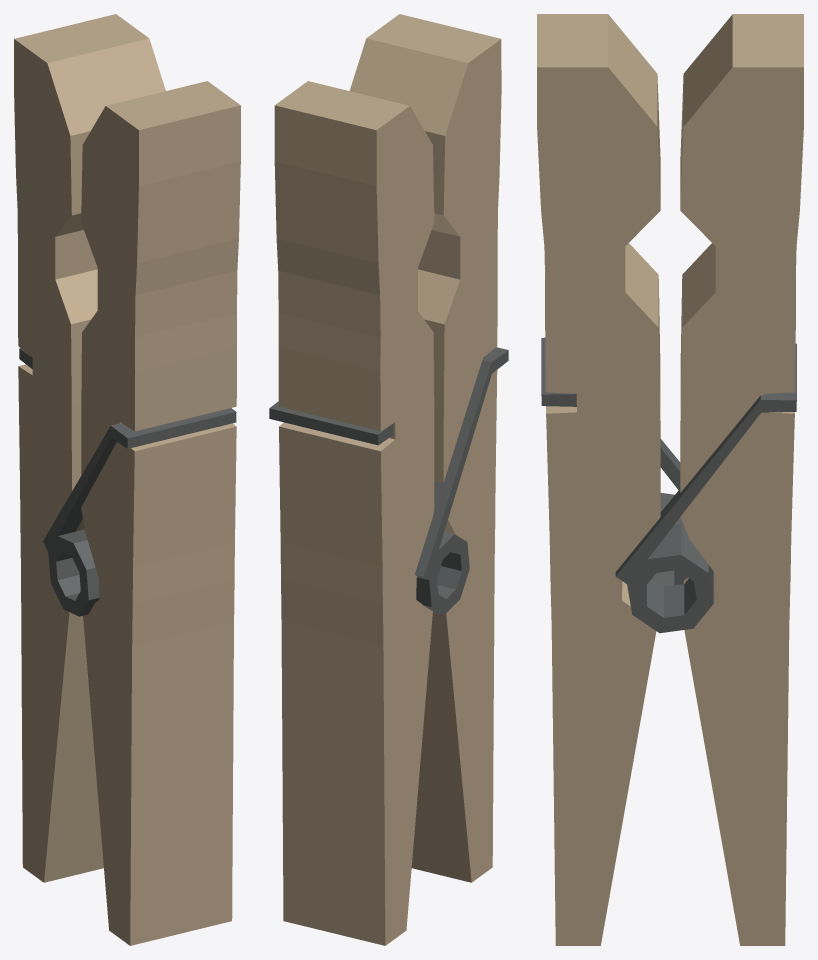
The model's file is prishepka.fbx.
3 renders of one model, left to right at view 1: azimuth 30°, elevation 25°; view 2: azimuth 150°, elevation 25°; view 3: azimuth 270°, elevation 25°, orthographic. The views are drawn at different scales.
Parts seen in each view (by area): view 1: Cube.002, Cylinder.002; view 2: Cube.002, Cylinder.002; view 3: Cube.002, Cylinder.002.
Part boxes in pixels (box(x1,y1,x2,y2)): Cube.002: box(14, 14, 240, 945); Cylinder.002: box(19, 348, 236, 616); Cube.002: box(274, 14, 501, 945); Cylinder.002: box(269, 347, 508, 614); Cube.002: box(537, 14, 803, 945); Cylinder.002: box(541, 337, 796, 633).
Size of the model in its own units: 0.0137 by 0.0899 by 0.0248.
